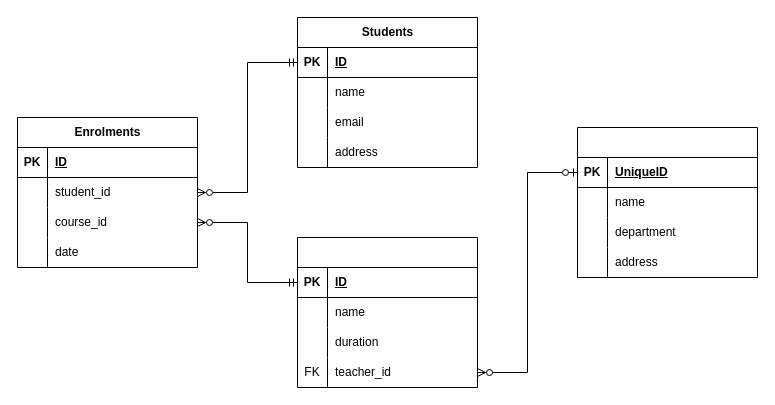
The diagram is 775 pixels wide and 405 high, and some of its shapes have lost their labels. The box of each missing label's shape, as (x1, y1, x2, y2) in pixels:
Courses: (296, 236, 478, 388)
Teacher: (576, 126, 758, 278)
